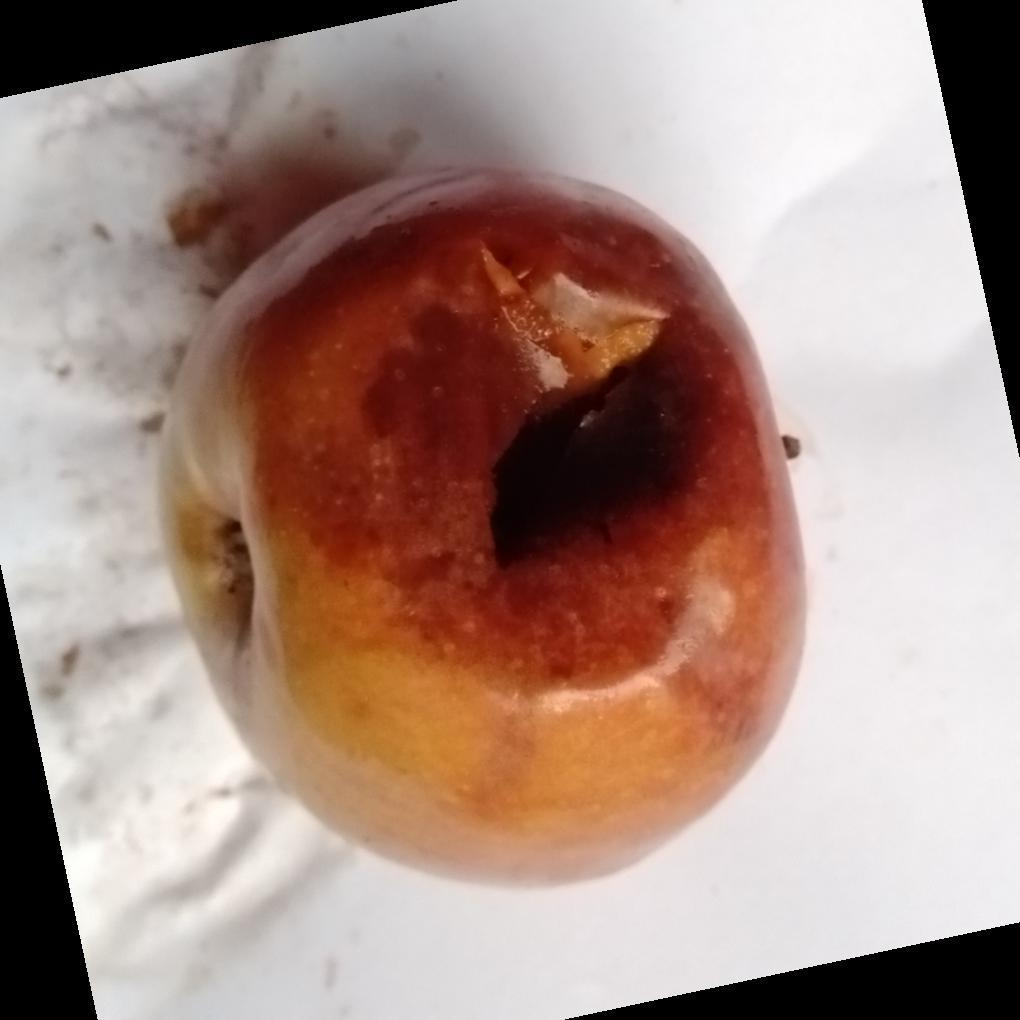FreshOrange: (155, 165, 811, 894)
